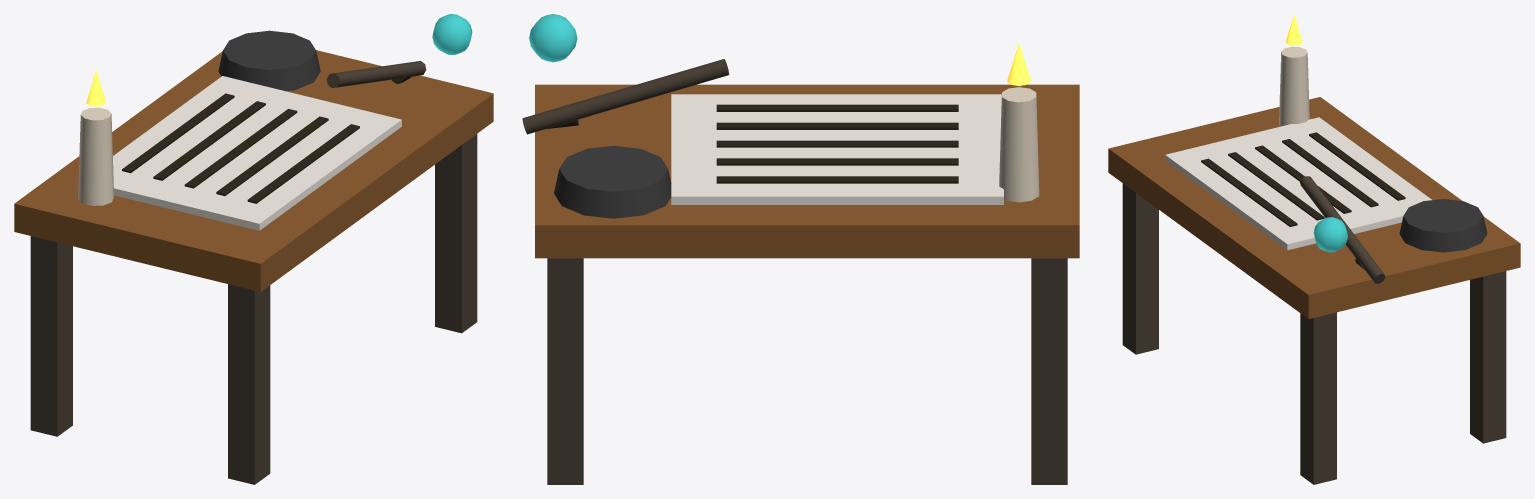
File: exam_desk.glb
3 views of the same model, side by side, from view 1: azimuth 30°, elevation 25°; view 2: azimuth 150°, elevation 25°; view 3: azimuth 270°, elevation 25° (orthographic). The views are drawn at different scales.
Bounding box in the file's own units: 1.05 × 0.76 × 0.9263.
